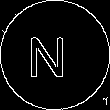N_N: (35, 30, 75, 80)
